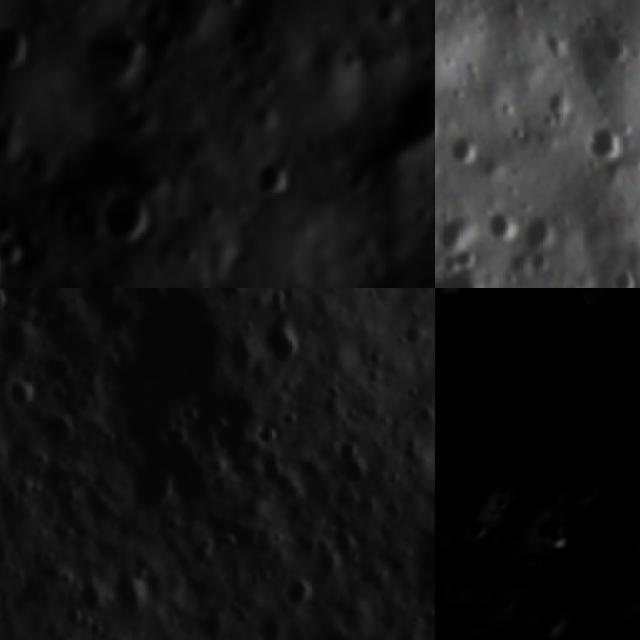crater: (100, 288, 258, 440), (435, 367, 544, 565), (555, 300, 640, 466), (452, 388, 534, 475), (79, 12, 155, 98), (435, 288, 523, 359), (382, 67, 435, 160), (197, 391, 260, 466), (558, 456, 624, 520), (98, 183, 162, 248), (120, 455, 180, 523), (524, 588, 593, 640), (164, 456, 221, 516), (251, 144, 302, 209), (447, 353, 502, 413), (101, 567, 155, 624), (327, 432, 375, 494), (521, 206, 566, 257), (0, 315, 41, 369), (582, 121, 634, 163), (590, 22, 634, 71), (258, 322, 302, 370), (437, 210, 478, 260), (34, 414, 80, 458), (444, 128, 488, 173), (69, 575, 108, 623), (0, 24, 34, 78), (477, 204, 518, 248), (607, 423, 640, 477), (326, 522, 364, 567), (0, 376, 39, 418), (282, 571, 317, 617), (223, 16, 262, 54), (0, 234, 31, 271), (0, 288, 41, 314), (607, 256, 640, 288), (96, 269, 125, 288), (0, 288, 12, 321), (345, 288, 381, 296)
